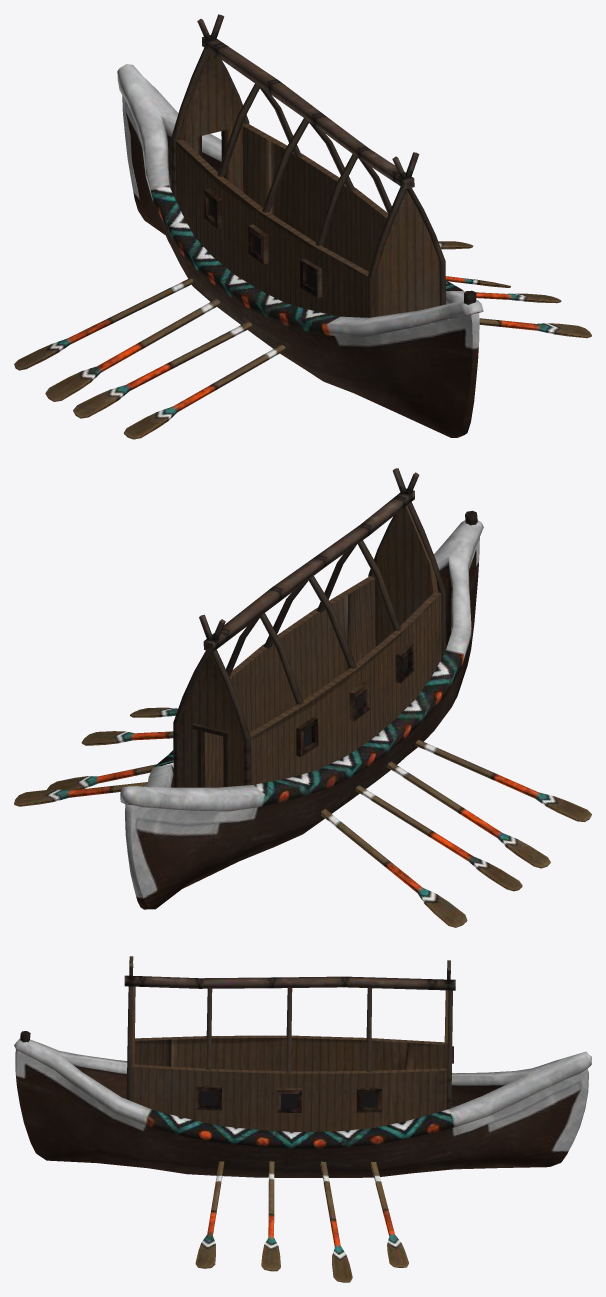
Rendered from 184-arrowcanoe.glb.
3 views of the same model, one above another, from view 1: azimuth 30°, elevation 25°; view 2: azimuth 150°, elevation 25°; view 3: azimuth 270°, elevation 25° (orthographic). The views are drawn at different scales.
Bounding box in the file's own units: 5.26 × 3.01 × 6.81.
Materials: 1 (1 with a texture image).
